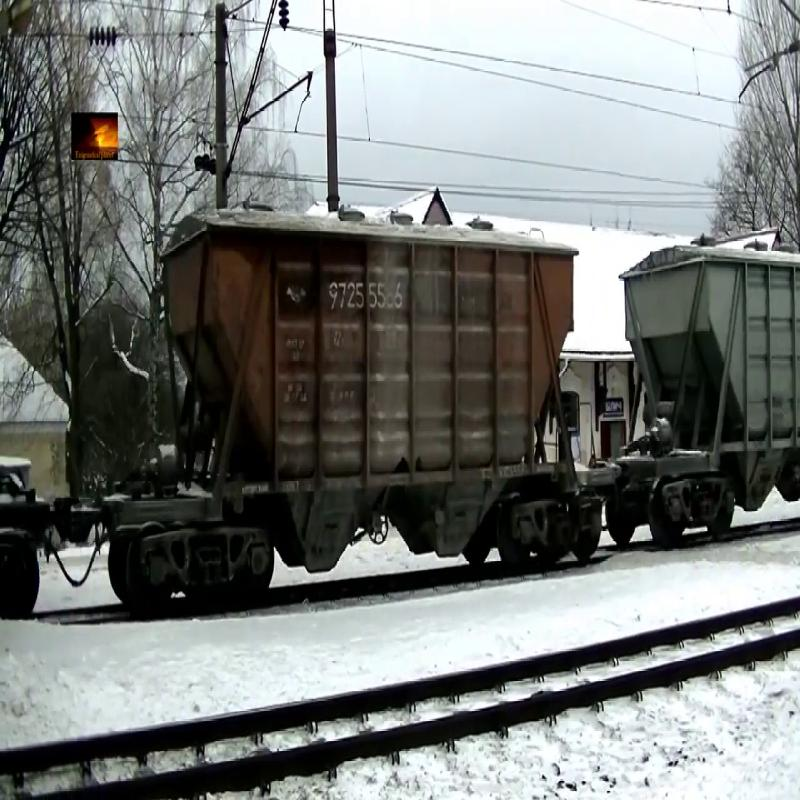train: (123, 214, 574, 588)
